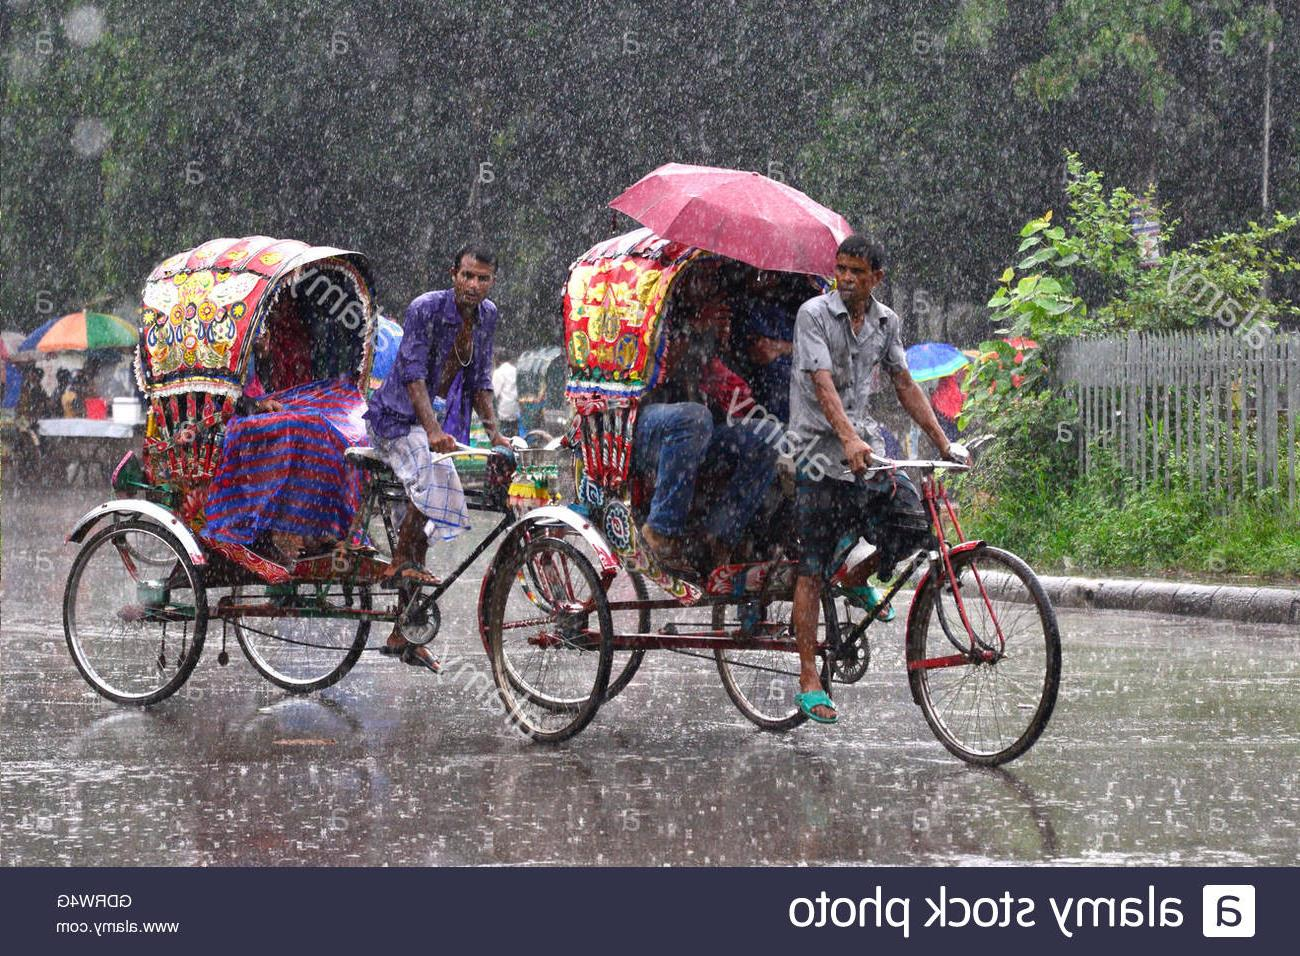Rickshaw: (530, 210, 1078, 746), (76, 228, 633, 741)
